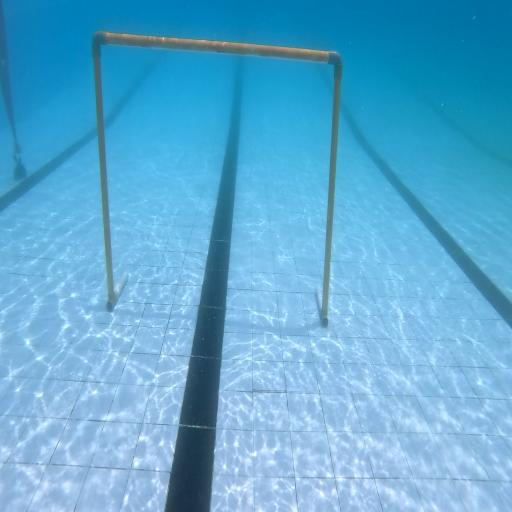gate: (92, 30, 343, 326)
